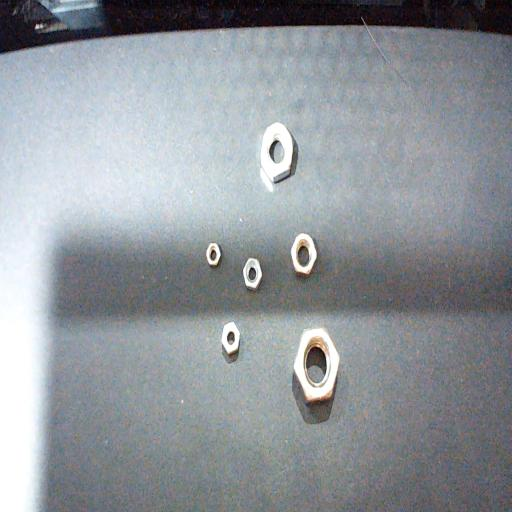nut: (294, 328, 340, 406), (260, 122, 294, 184), (291, 232, 317, 276), (243, 258, 263, 290), (222, 322, 240, 356), (206, 243, 221, 267)
